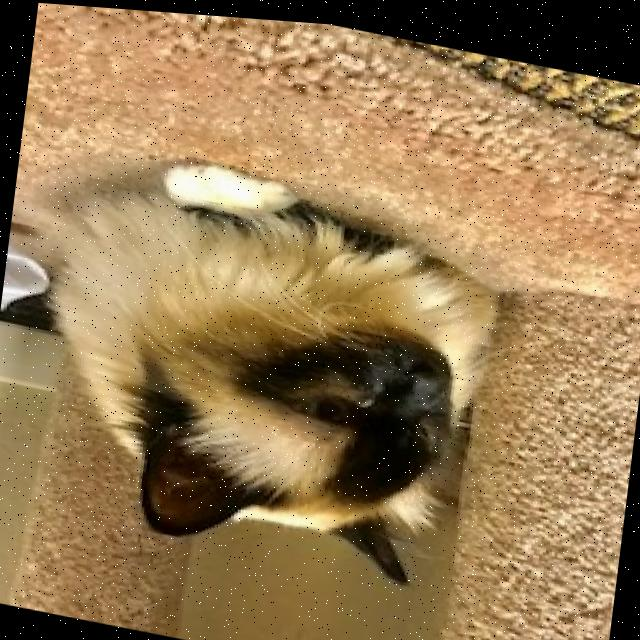Birman: (12, 124, 512, 594)
